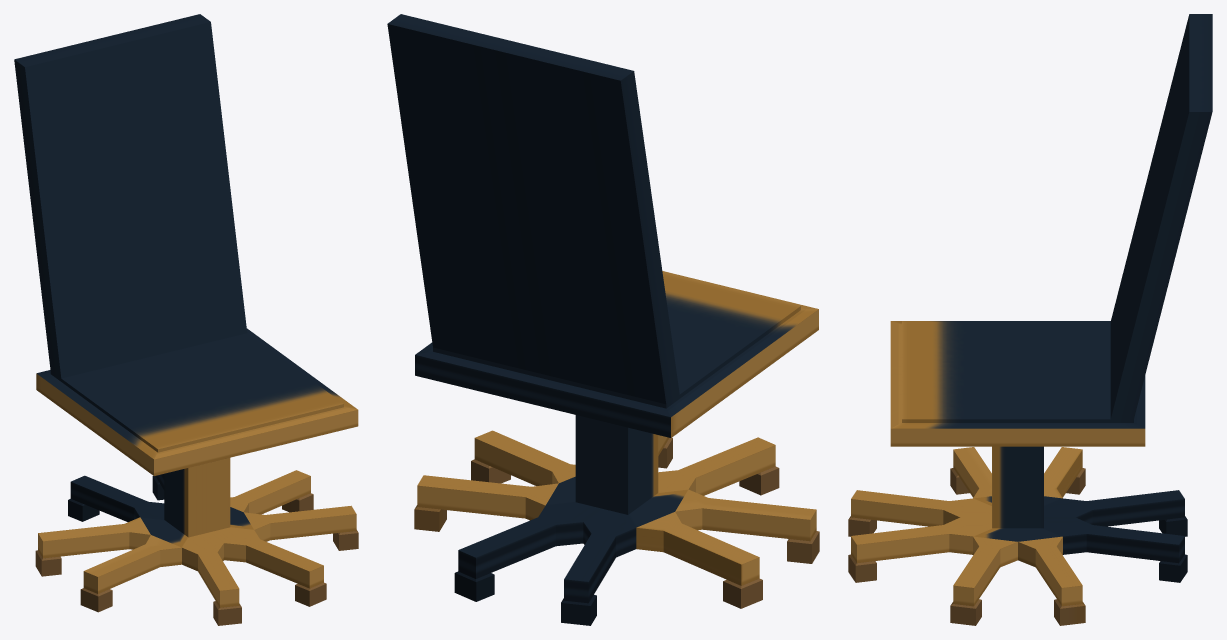
File: SOD_Chair_Asset.fbx
The picture shows the model from 3 angles, left to right: view 1: azimuth 30°, elevation 25°; view 2: azimuth 150°, elevation 25°; view 3: azimuth 270°, elevation 25°; orthographic projection. The views are drawn at different scales.
Visible parts, largest first — view 1: SOD_Chair_Asset; view 2: SOD_Chair_Asset; view 3: SOD_Chair_Asset.
Boxes of the visible parts, box(x1,y1,x2,y2) form: SOD_Chair_Asset: box(14, 14, 358, 625); SOD_Chair_Asset: box(387, 14, 819, 625); SOD_Chair_Asset: box(848, 14, 1212, 625).
Size of the model in its own units: 84.01 by 134 by 90.21.
1 material, 1 textured.
